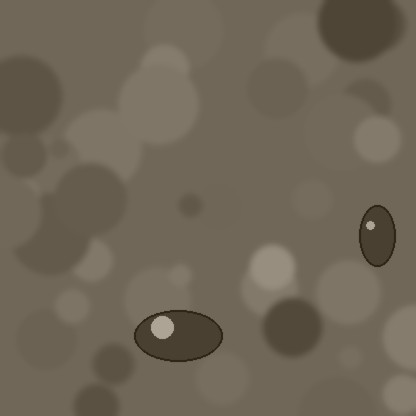gota: (134, 312, 222, 366), (359, 207, 395, 271)
